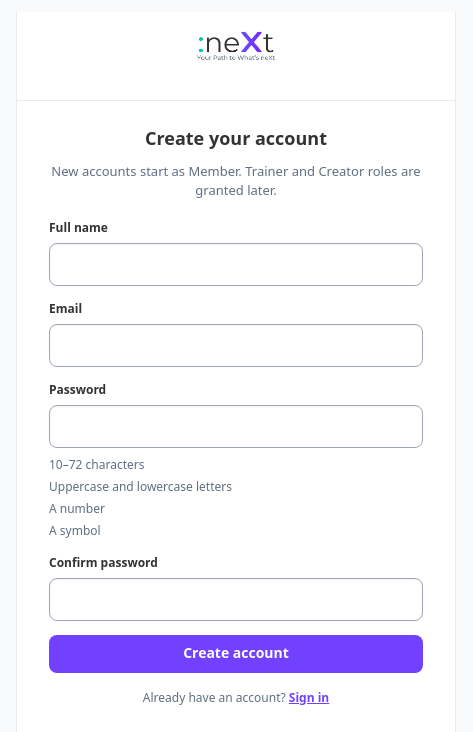
Test: Account registration › blocks submit when passwords do not match
Type "New Learner" into the field labelled "Full name".
click(236, 264); type("New Learner")  # box [49,242,423,286]
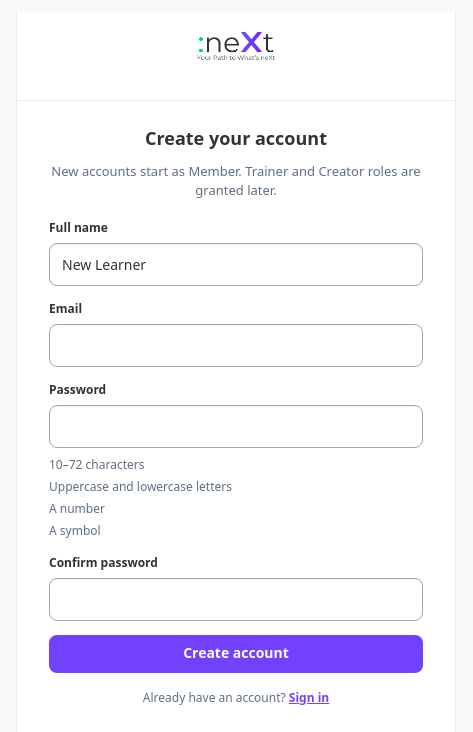
Type "new.learner@colearnx.test" into the field labelled "Email".
click(236, 345); type("new.learner@colearnx.test")  # box [49,324,423,366]
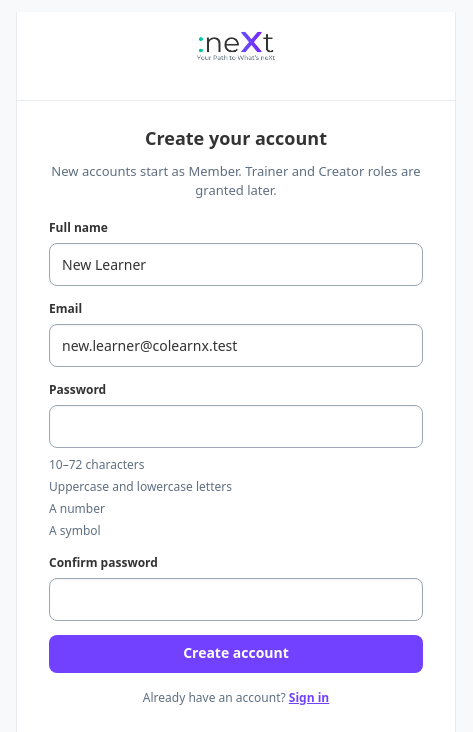
Type "Password123!" into the password field labelled "Password".
click(236, 426); type("Password123!")  # box [49,404,423,448]
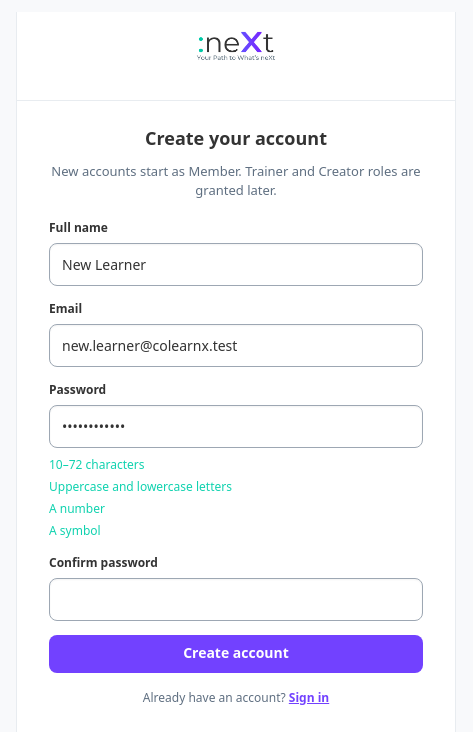
Type "Password123?" into the password field labelled "Confirm password".
click(236, 599); type("Password123?")  # box [49,578,423,620]
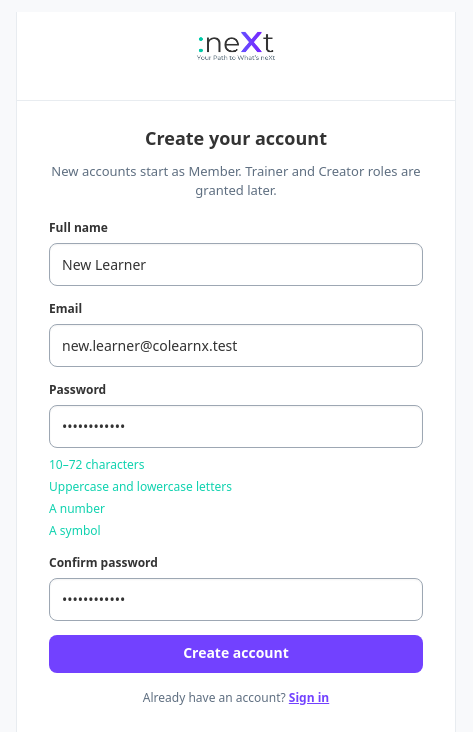
Click the button "Create account".
click(236, 654)  # box [49,634,423,672]
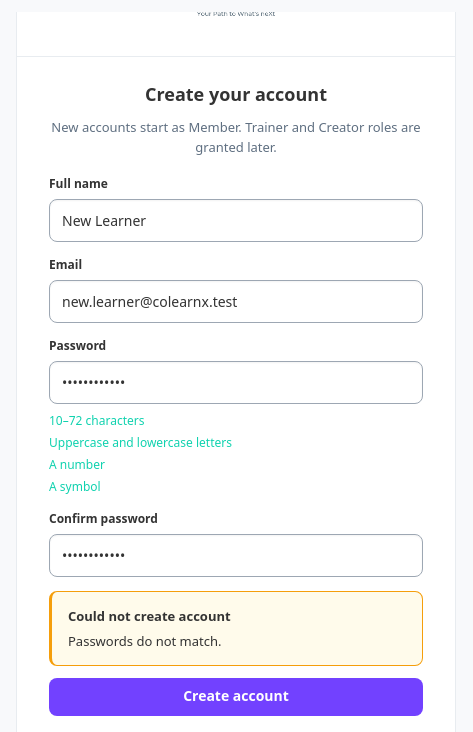
Result: the text "Passwords do not match." is shown at [68,632,222,650]
